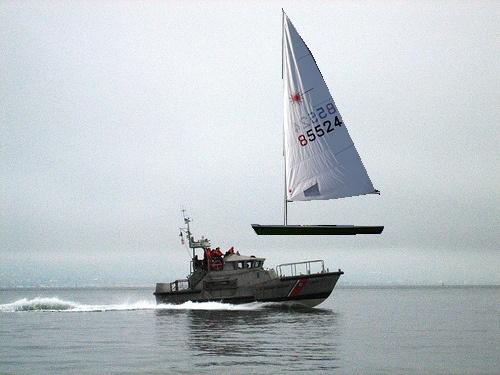tampered: (252, 9, 384, 235)
